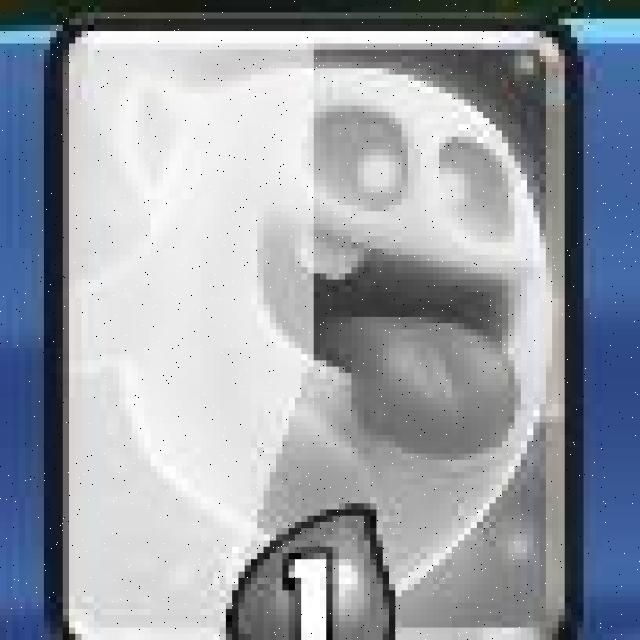Heal_Spirit: (51, 17, 574, 640)
